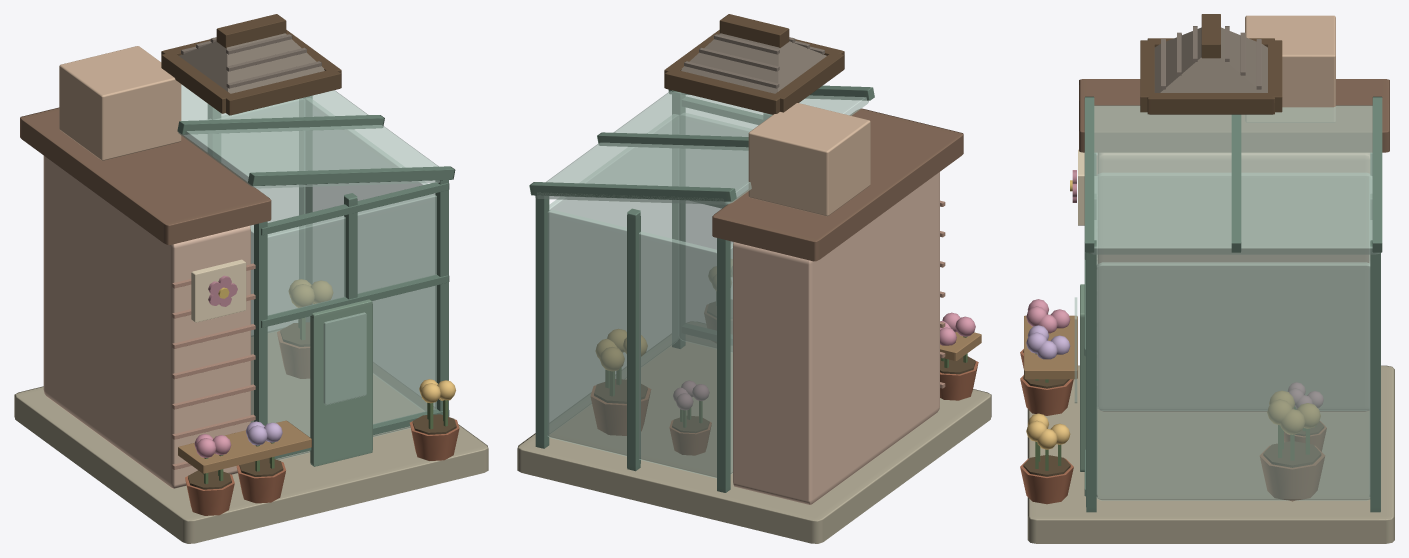
File: florist-0.glb
3 views of the same model, side by side, from view 1: azimuth 30°, elevation 25°; view 2: azimuth 150°, elevation 25°; view 3: azimuth 270°, elevation 25° (orthographic). The views are drawn at different scales.
Parts seen in each view (by area): view 1: florist-0-0; view 2: florist-0-0; view 3: florist-0-0.
Boxes of the visible parts, x1=… form: florist-0-0: x1=14, y1=14, x2=488, y2=543; florist-0-0: x1=517, y1=14, x2=991, y2=543; florist-0-0: x1=1020, y1=14, x2=1394, y2=543.
Size of the model in its own units: 1.9 by 2.5 by 1.94.
